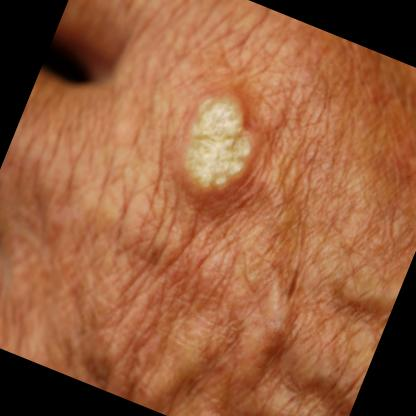Warts: (156, 65, 284, 216)
